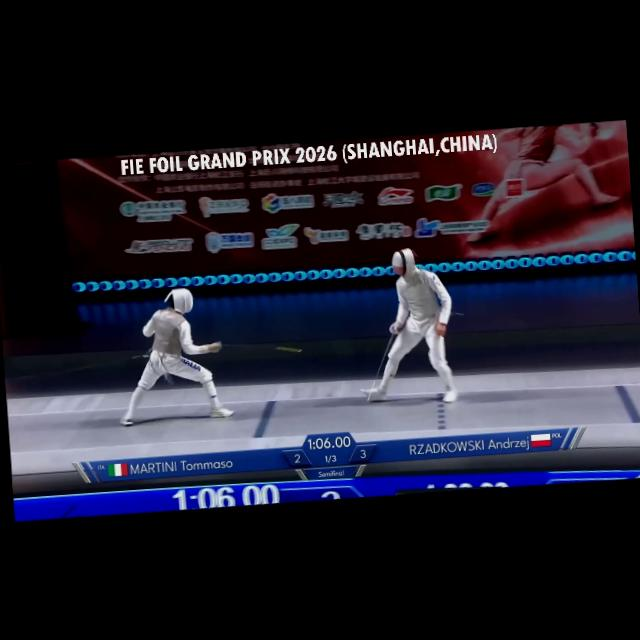blade: (356, 314, 410, 408), (204, 329, 305, 364)
